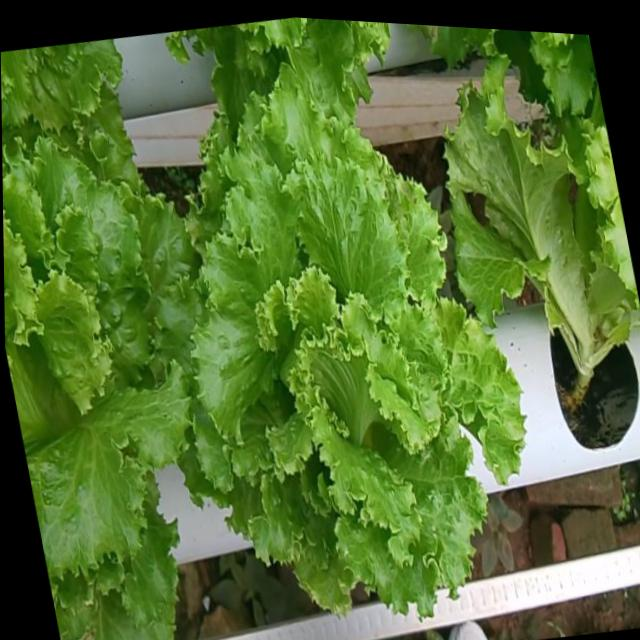Mature: (182, 100, 523, 632), (3, 149, 196, 598)
